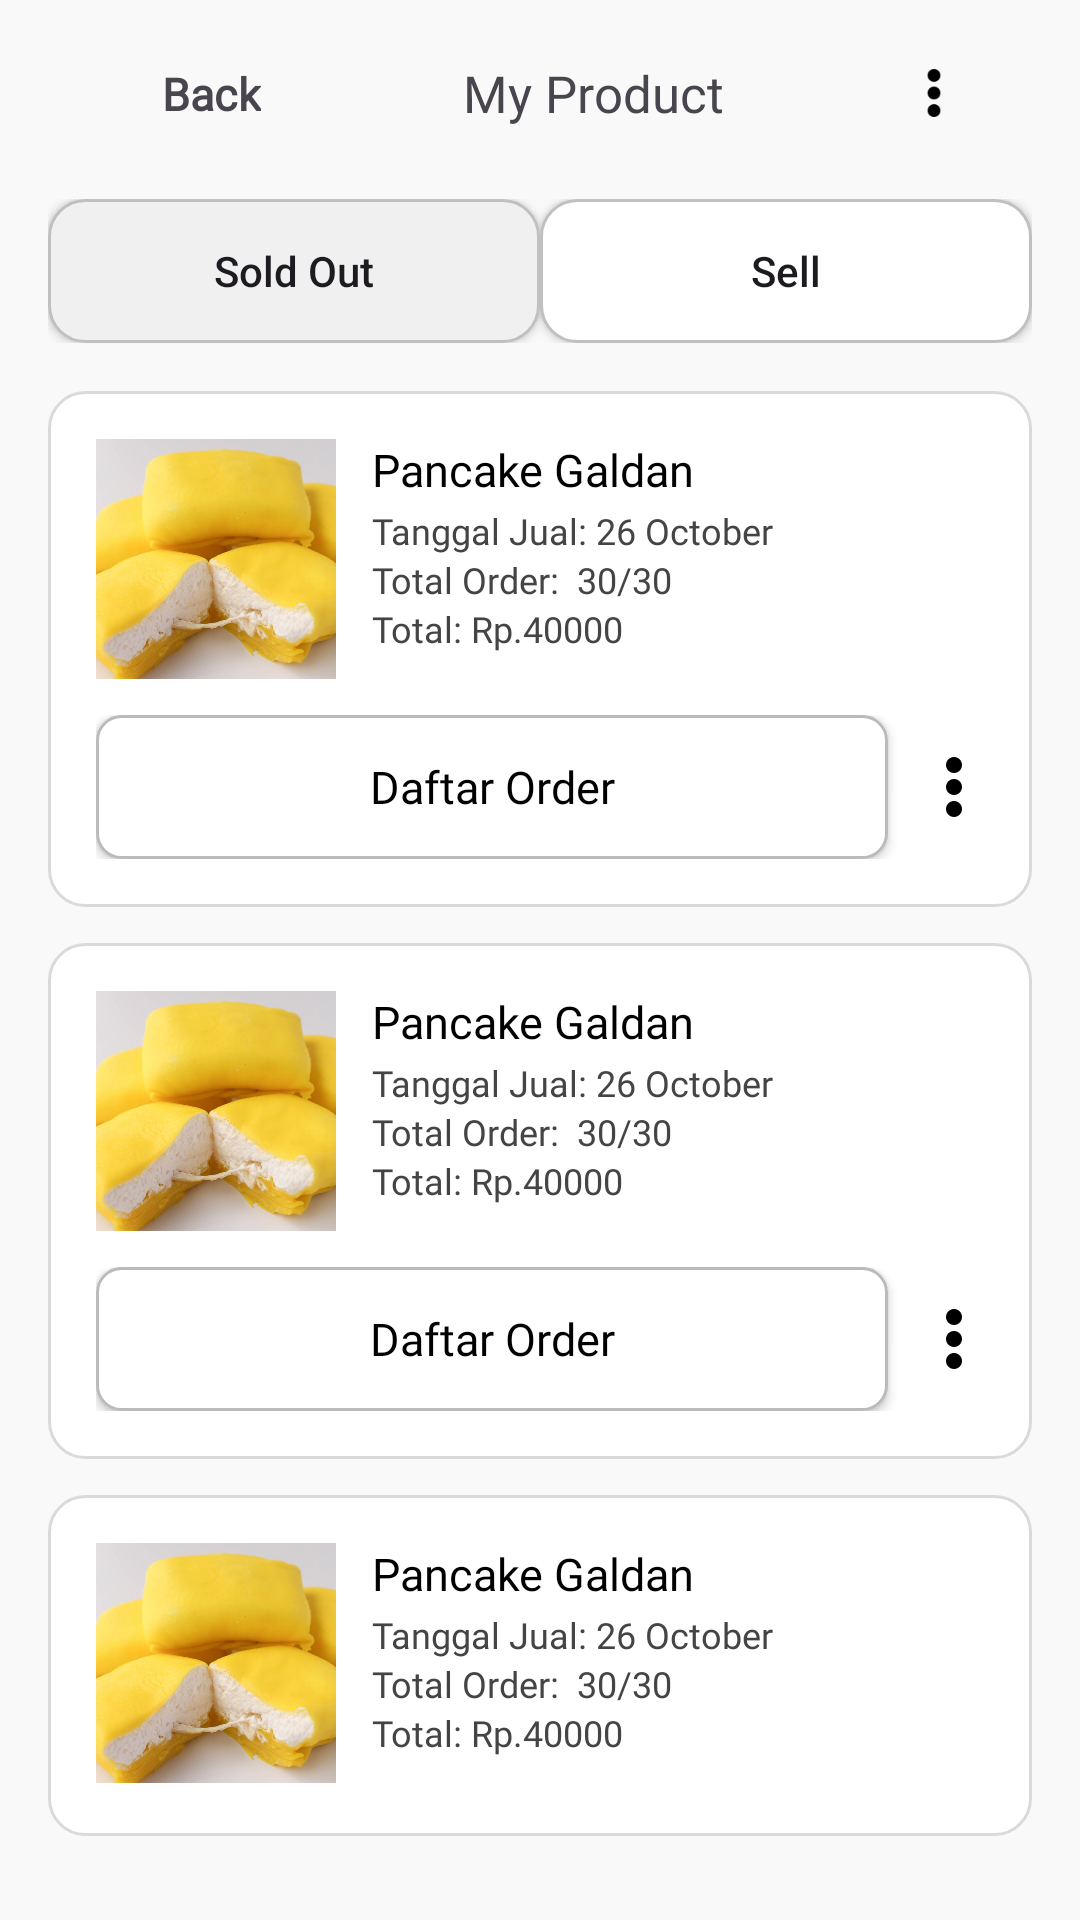

Icon bounding boxes for this 1080 x 1920 phone screenshot, format [x1, y1, x2, y2]:
titiktiga: [927, 69, 941, 117], [946, 757, 962, 817], [946, 1309, 962, 1369]
